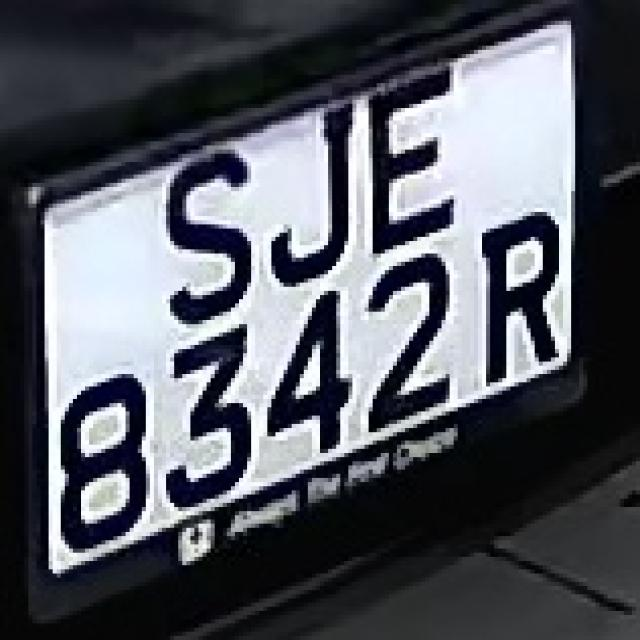2: (344, 220, 450, 441)
3: (154, 320, 267, 519)
4: (255, 278, 361, 474)
8: (57, 374, 154, 569)
E: (364, 58, 454, 250)
J: (251, 91, 365, 282)
R: (478, 191, 575, 395)
S: (146, 146, 263, 308)
